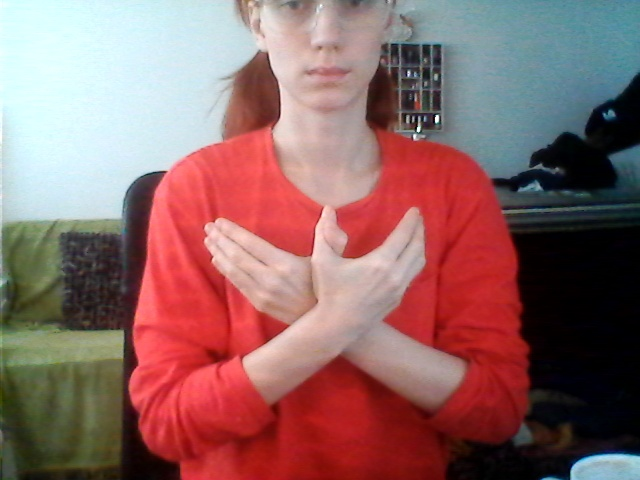lekar: (194, 197, 475, 396)
